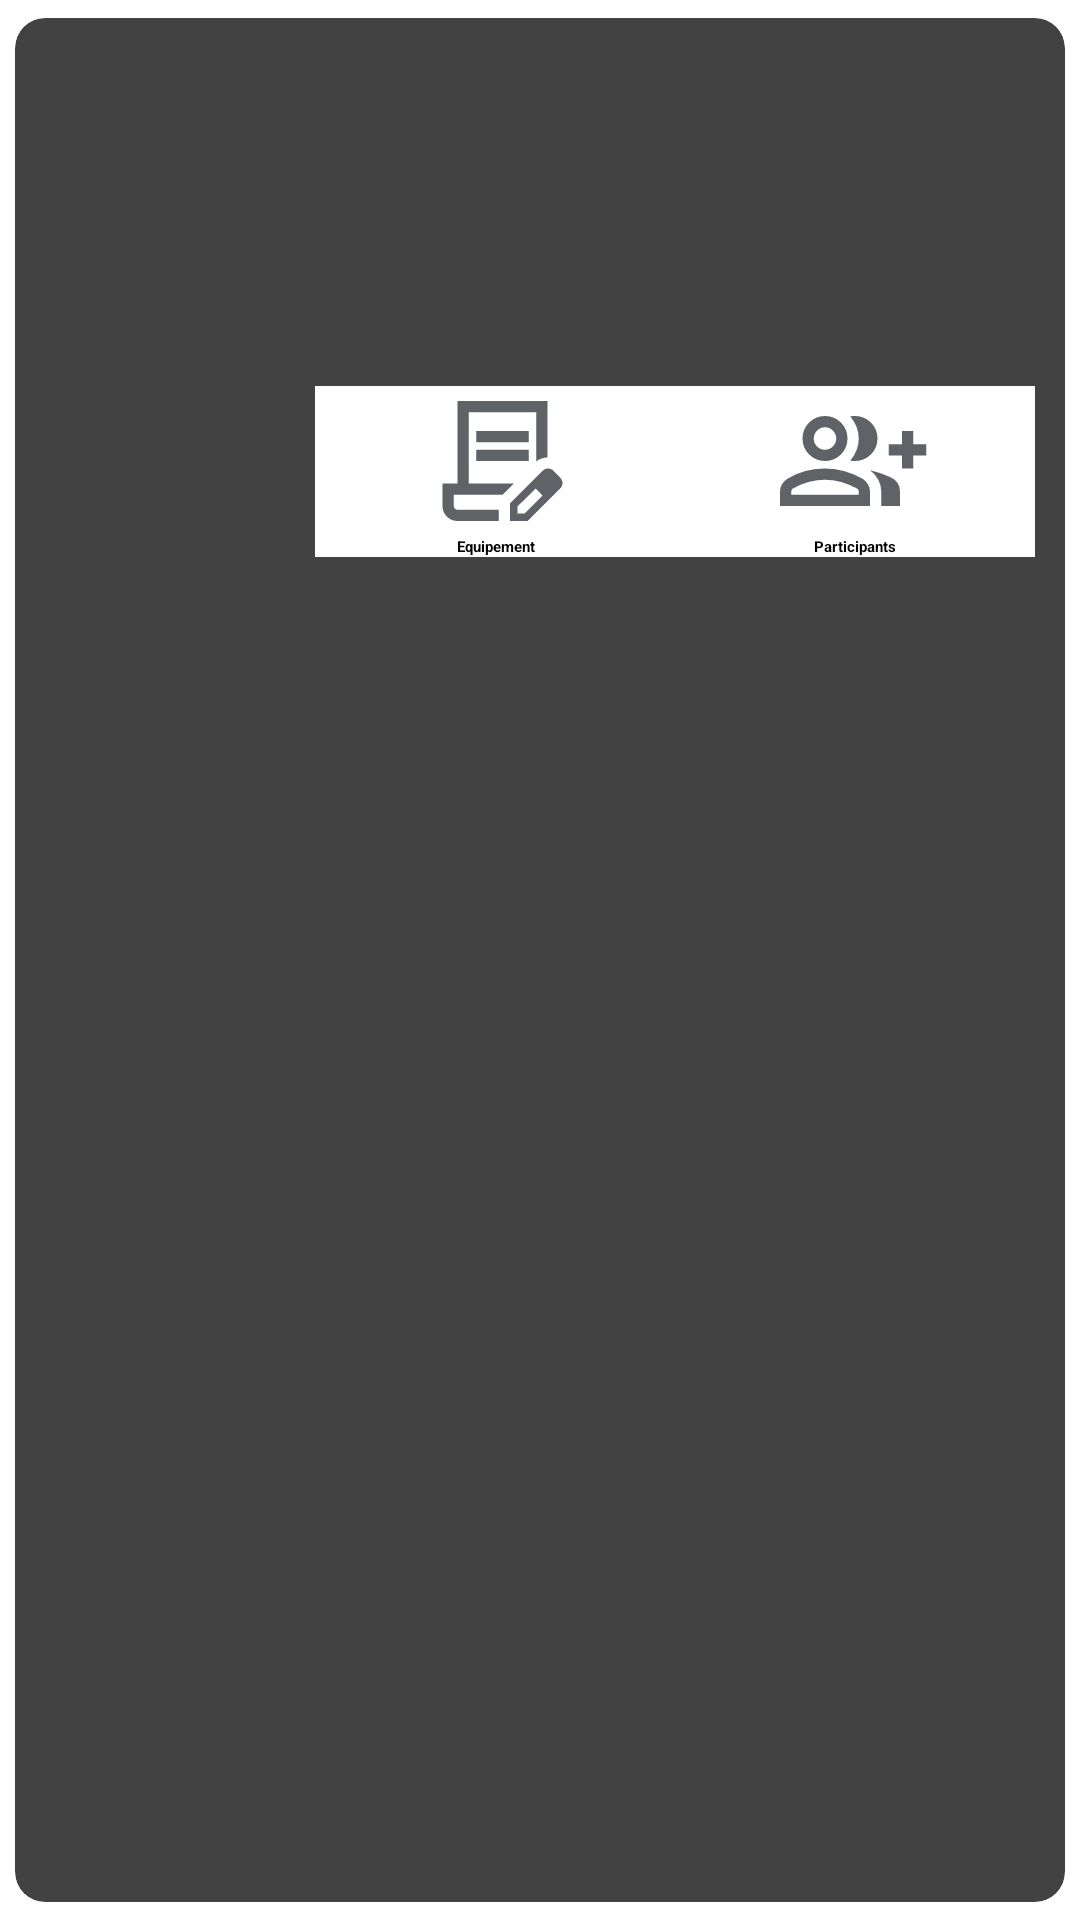

Icon bounding boxes for this 1080×1920 phone screenshot, format region(x1, y1, x2, y2):
invite: region(780, 416, 927, 506)
items list: region(442, 401, 563, 521)
